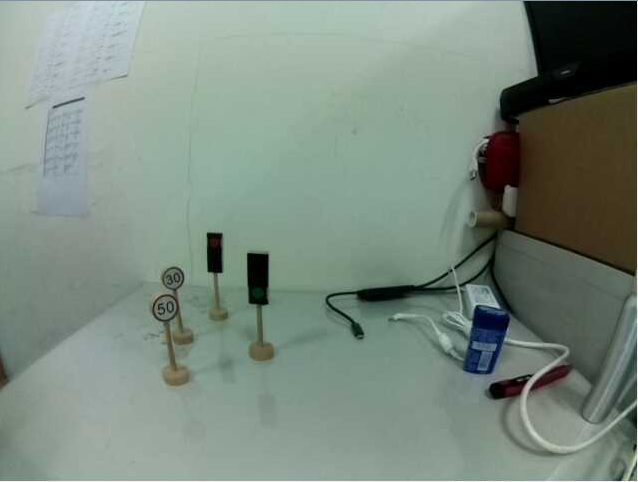Green: (244, 248, 274, 309)
Red: (203, 225, 229, 275)
Speed30: (159, 265, 187, 291)
Speed50: (148, 293, 182, 326)
